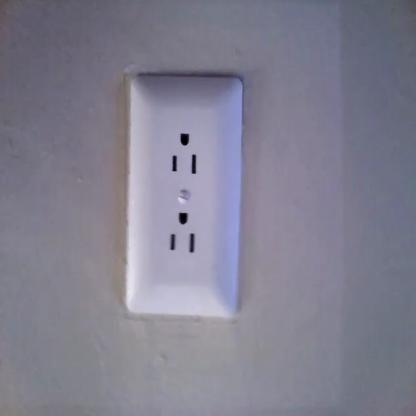OUTLET: (127, 76, 245, 318)
